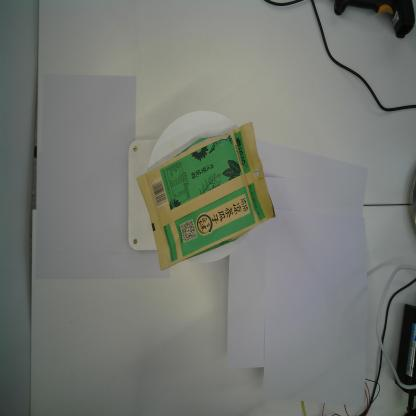Dried Food: (136, 117, 276, 274)
